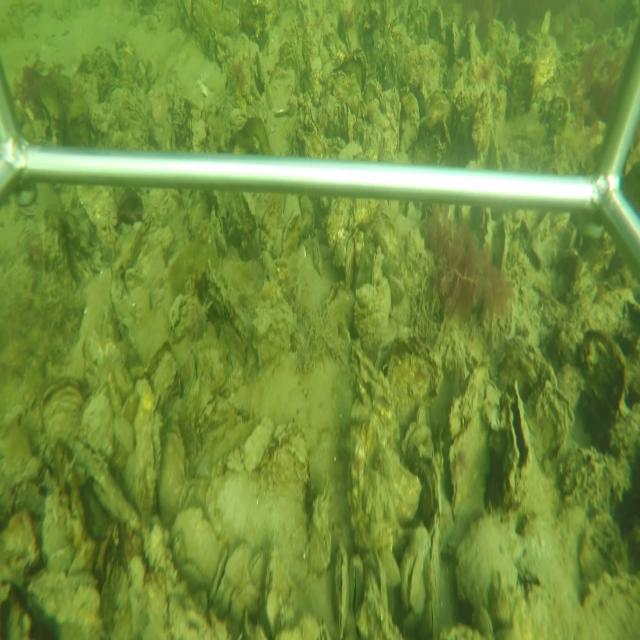Oyster-Closed: (106, 220, 174, 371), (448, 357, 500, 520), (412, 412, 445, 638), (204, 254, 251, 358), (134, 389, 167, 515), (263, 544, 298, 637), (300, 87, 332, 157), (332, 545, 349, 638)
Oyster-Indeterminate: (345, 341, 422, 557), (239, 418, 276, 480)
Oyster-Open: (501, 377, 535, 510), (397, 525, 429, 618), (208, 544, 254, 605), (350, 553, 364, 618)
